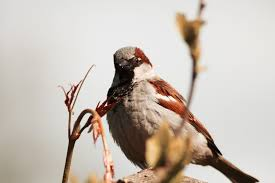hsparrow: (96, 44, 259, 183)
